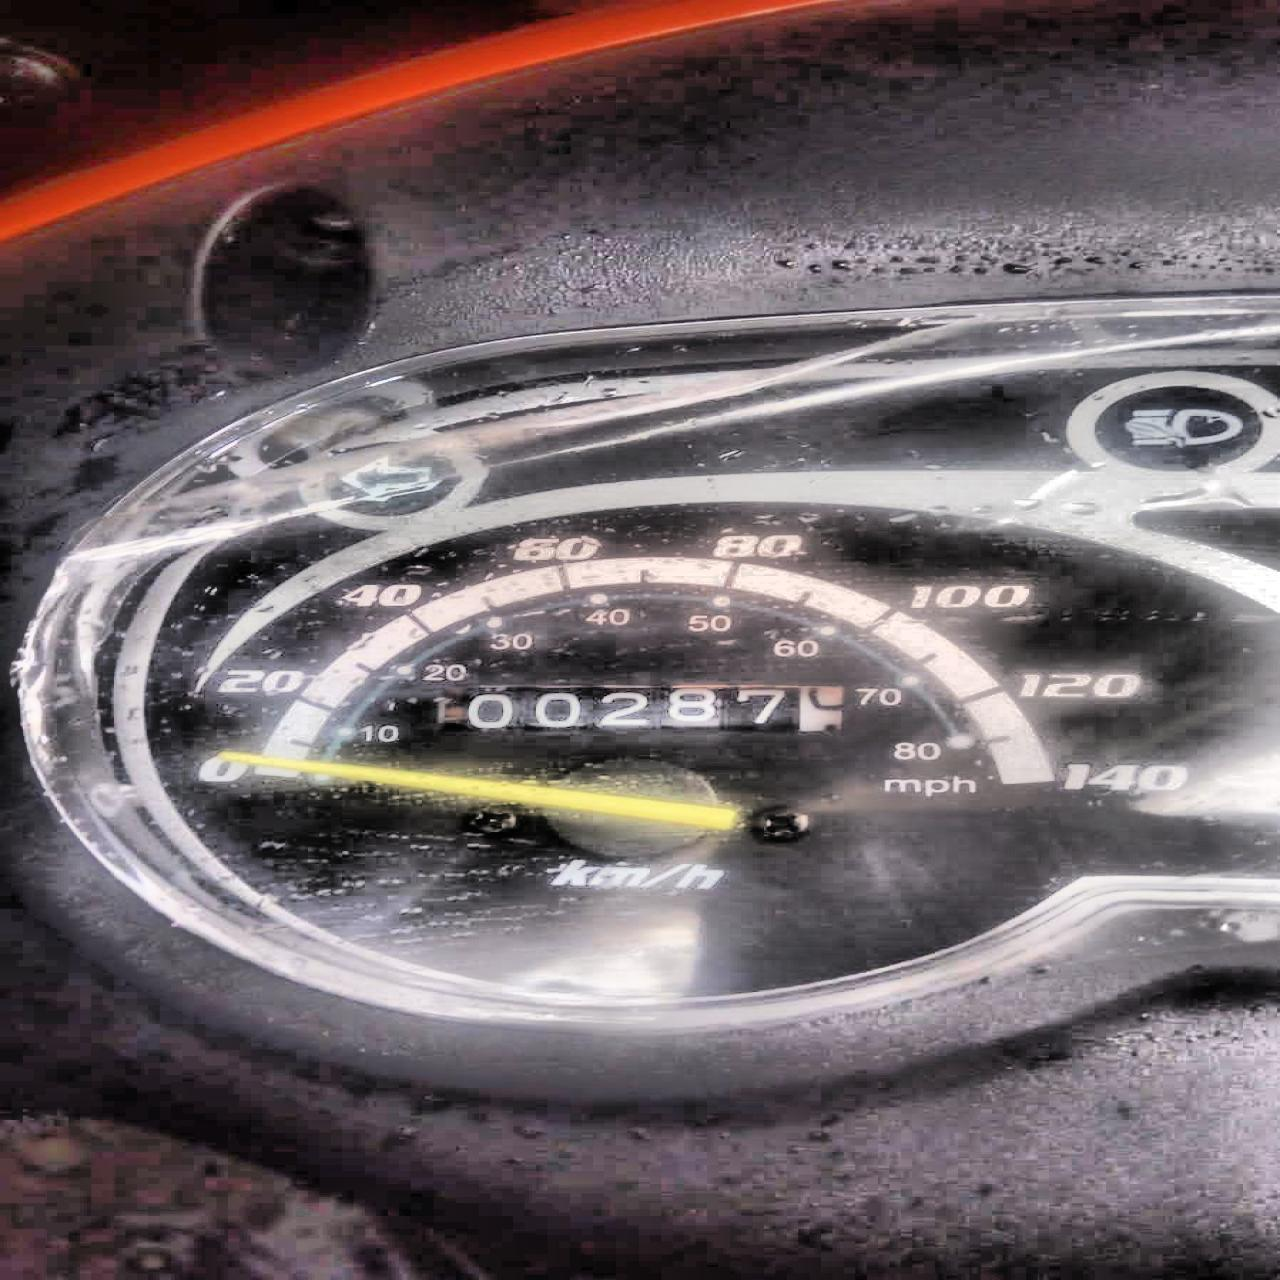0: (533, 692, 580, 728), (464, 693, 511, 728), (806, 679, 850, 710)
2: (598, 692, 649, 726)
7: (734, 688, 784, 724)
8: (667, 688, 716, 722)
odometer: (408, 676, 856, 743)
